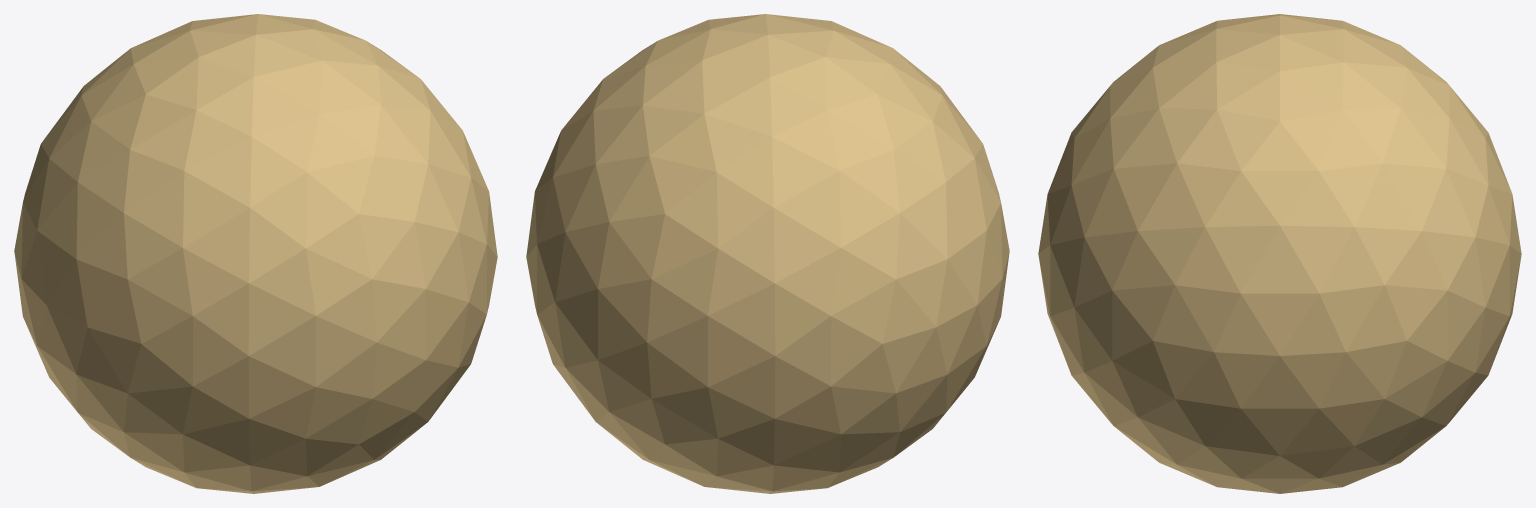
File: sun.glb
3 views of the same model, side by side, from view 1: azimuth 30°, elevation 25°; view 2: azimuth 150°, elevation 25°; view 3: azimuth 270°, elevation 25° (orthographic).
Parts seen in each view (by area): view 1: world; view 2: world; view 3: world.
Part boxes in pixels (x1,y1,x2,y2): world: [14, 14, 497, 493]; world: [526, 14, 1009, 493]; world: [1038, 14, 1521, 493].
Size of the model in its own units: 2.64 by 2.64 by 2.64.
